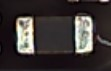COMP: (11, 12, 98, 58)
STAN: (95, 27, 111, 49)
